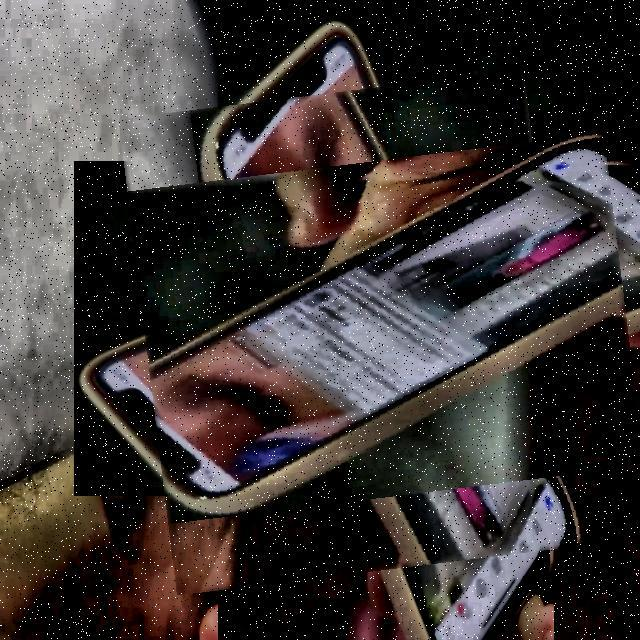Phone: (132, 74, 640, 582)
